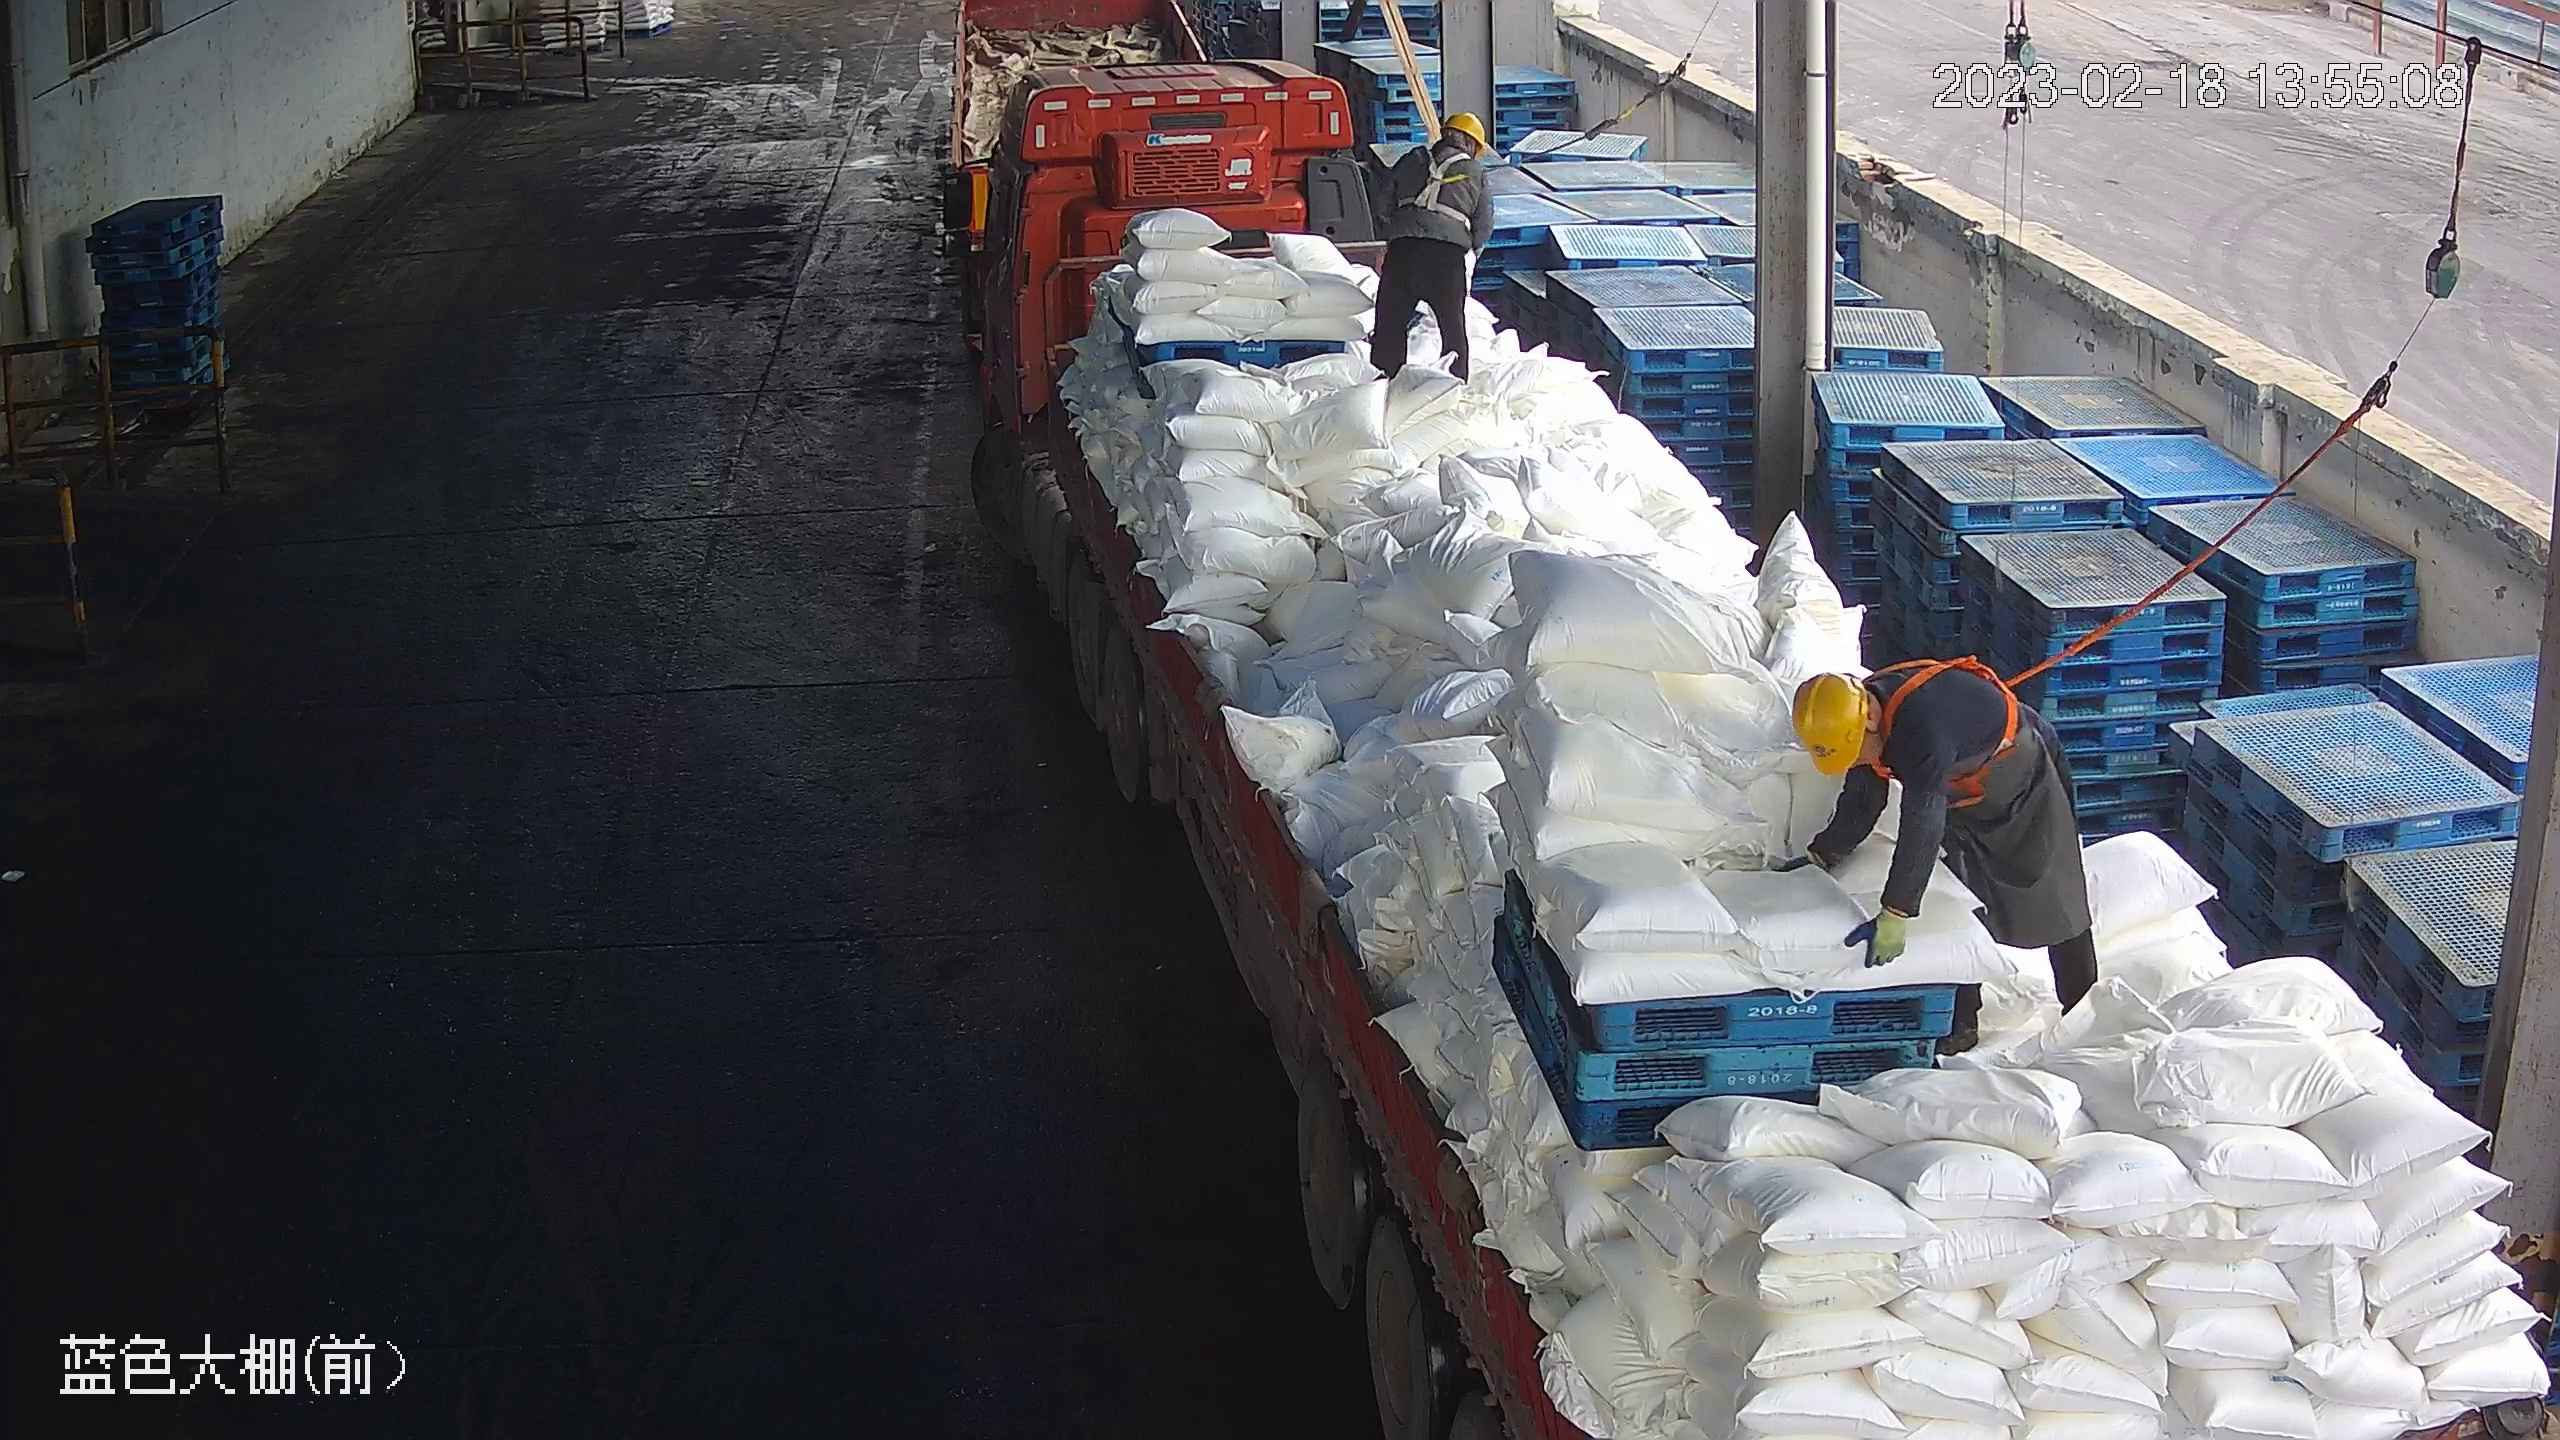belt: (1868, 649, 2032, 793), (1395, 144, 1475, 217)
head: (1791, 653, 1962, 797), (1390, 108, 1492, 193)
helmet: (1791, 670, 1869, 776), (1441, 108, 1488, 151)
people: (1773, 651, 2102, 1054), (1372, 112, 1493, 389)
truck: (948, 51, 2558, 1440)
